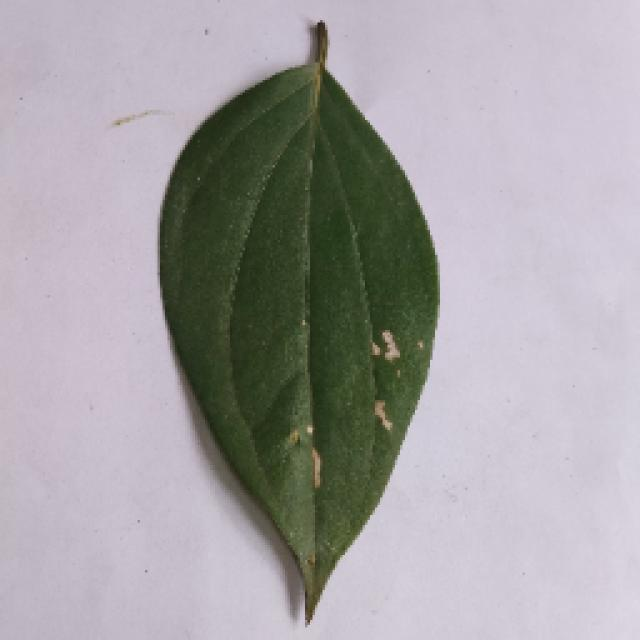pollu-disease: (152, 35, 440, 627)
